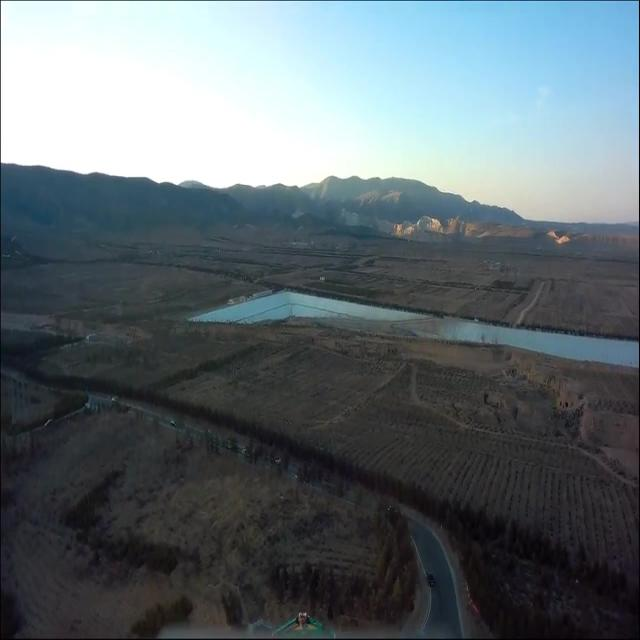iha: (302, 612, 306, 640)
